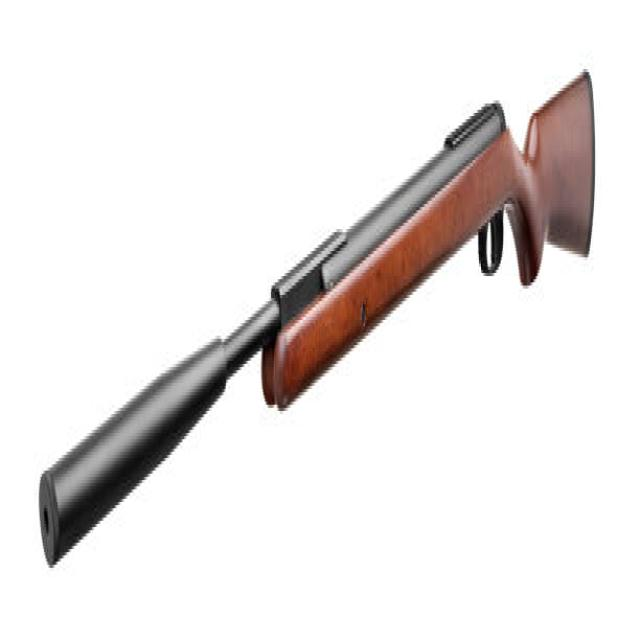rifle: (34, 58, 600, 579)
